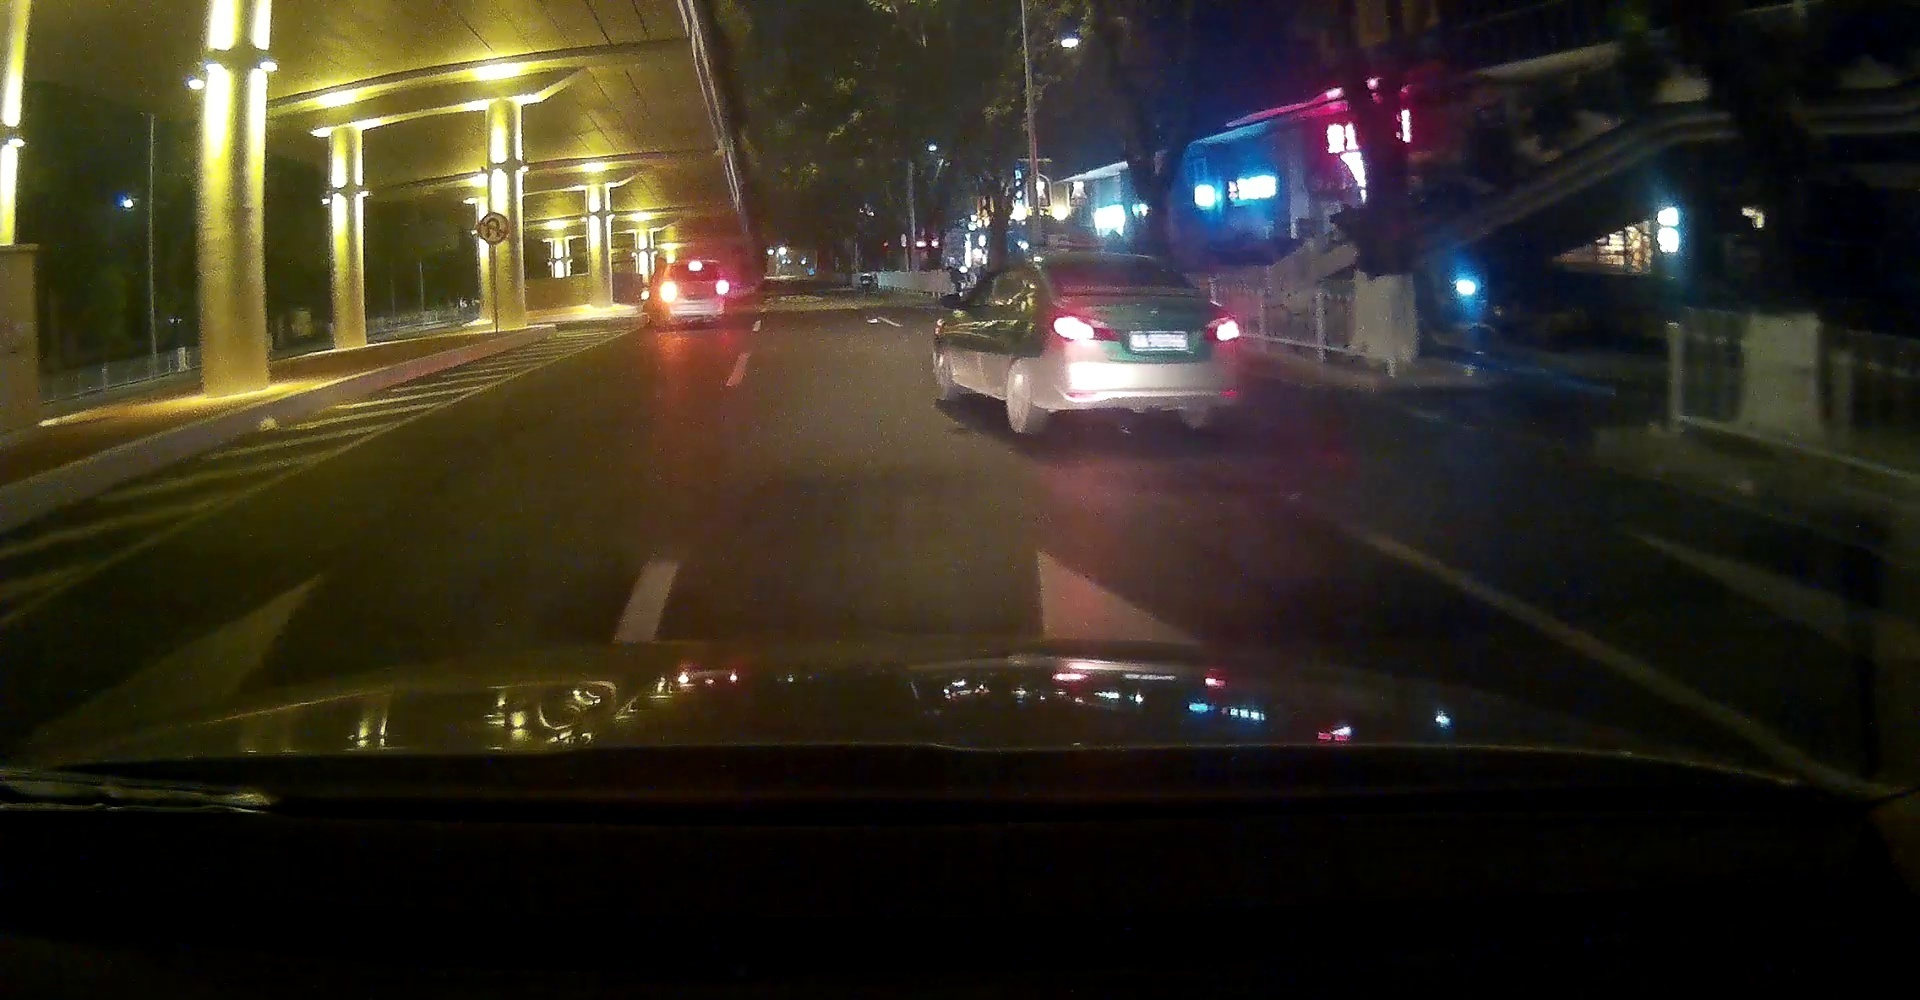L_light: (1049, 312, 1117, 341), (660, 282, 676, 302)
R_light: (1205, 316, 1239, 341), (715, 279, 728, 294)
T_light: (687, 261, 702, 272), (1105, 261, 1126, 266)
night-left: (662, 259, 728, 329)
night-no: (1037, 253, 1241, 437)
